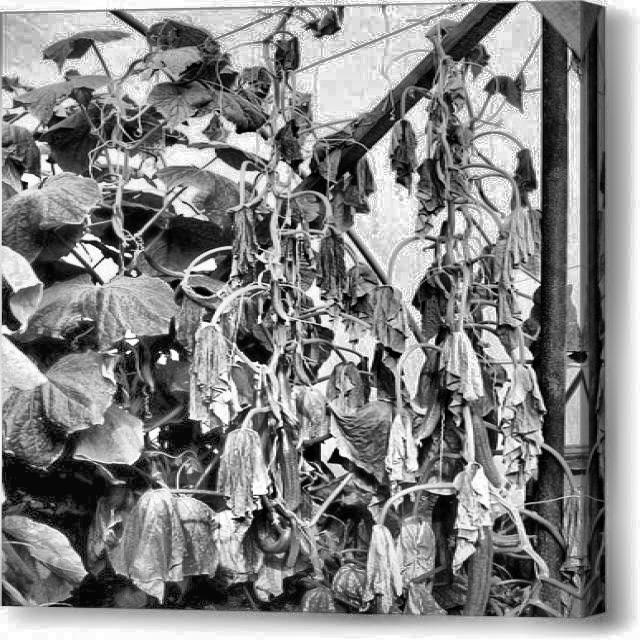plants: (3, 17, 639, 639), (372, 222, 499, 402), (105, 472, 253, 593)
